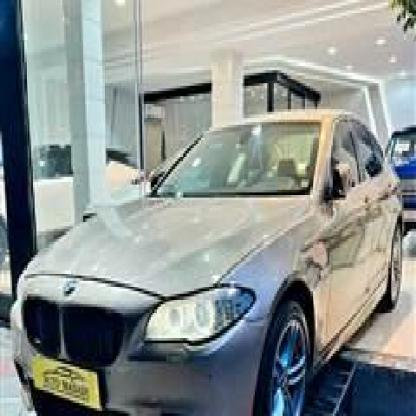Car: (9, 86, 400, 416)
